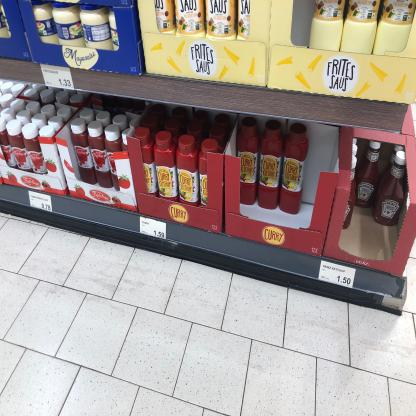prtg: (320, 261, 357, 289), (41, 66, 75, 91), (141, 217, 167, 240), (29, 192, 53, 212)
